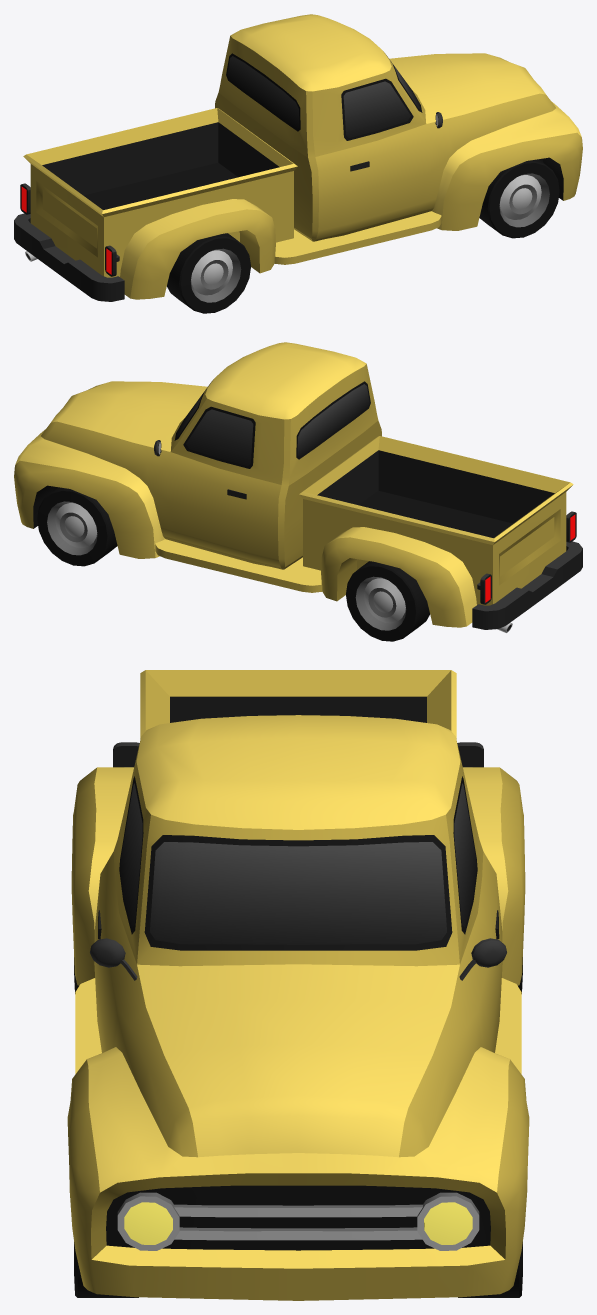
File: Car_040.glb
The picture shows the model from 3 angles, top to bottom: view 1: azimuth 30°, elevation 25°; view 2: azimuth 150°, elevation 25°; view 3: azimuth 270°, elevation 25°; orthographic projection. The views are drawn at different scales.
Parts seen in each view (by area): view 1: Car_040, wheel_3_Car_040_Wheel_2R, wheel_1_Car_040_Wheel_1R; view 2: Car_040, wheel_2_Car_040_Wheel_2L, wheel_0_Car_040_Wheel_1L; view 3: Car_040.
Boxes of the visible parts, <box> form: Car_040: <box>14,14,582,301</box>; wheel_3_Car_040_Wheel_2R: <box>167,233,250,313</box>; wheel_1_Car_040_Wheel_1R: <box>479,159,559,238</box>; Car_040: <box>14,342,582,632</box>; wheel_2_Car_040_Wheel_2L: <box>346,561,429,641</box>; wheel_0_Car_040_Wheel_1L: <box>37,487,117,566</box>; Car_040: <box>67,670,529,1300</box>.
Bounding box in the file's own units: 4.82 × 1.86 × 2.
Materials: 2 (2 with a texture image).
